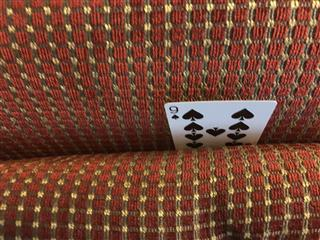NineOfSpades: (162, 99, 277, 149)
